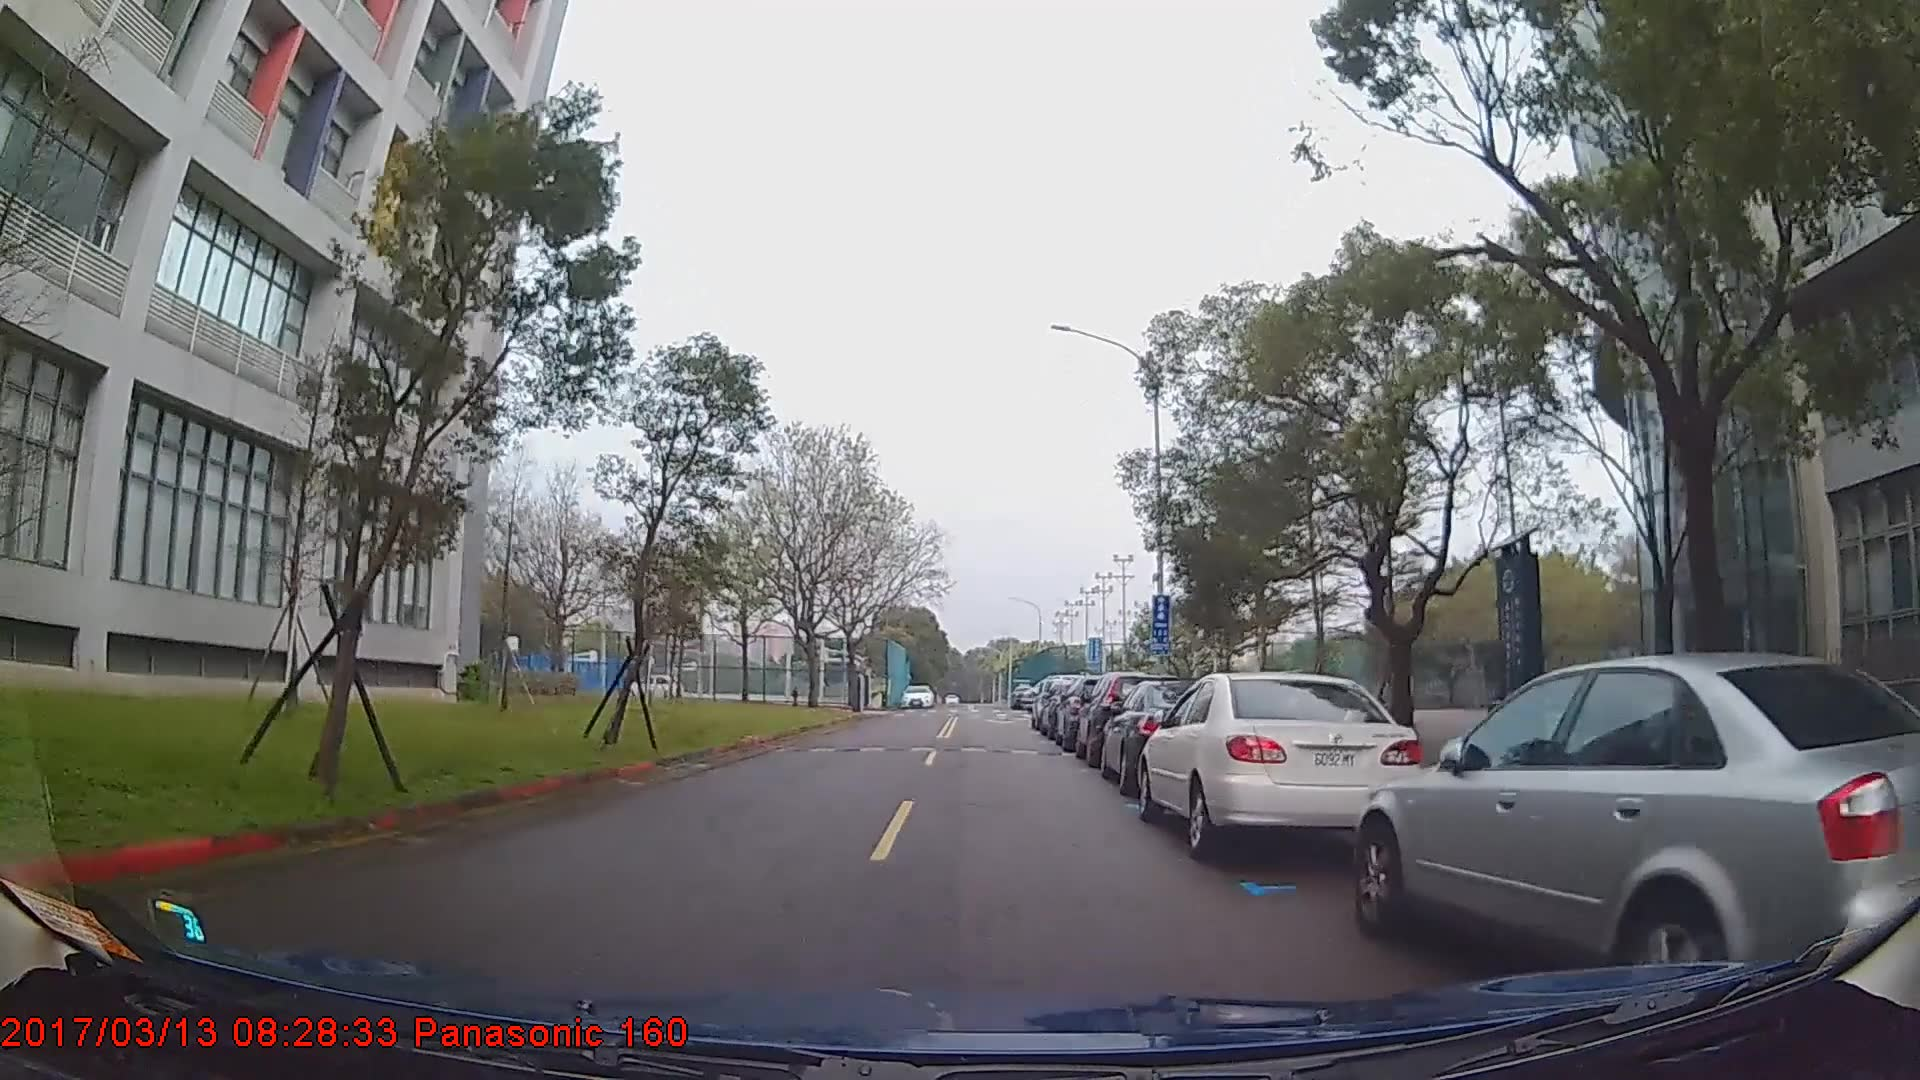vehicle: (1350, 651, 1920, 1021), (1137, 669, 1425, 861), (1098, 676, 1232, 798), (616, 671, 680, 699), (899, 684, 932, 707)
